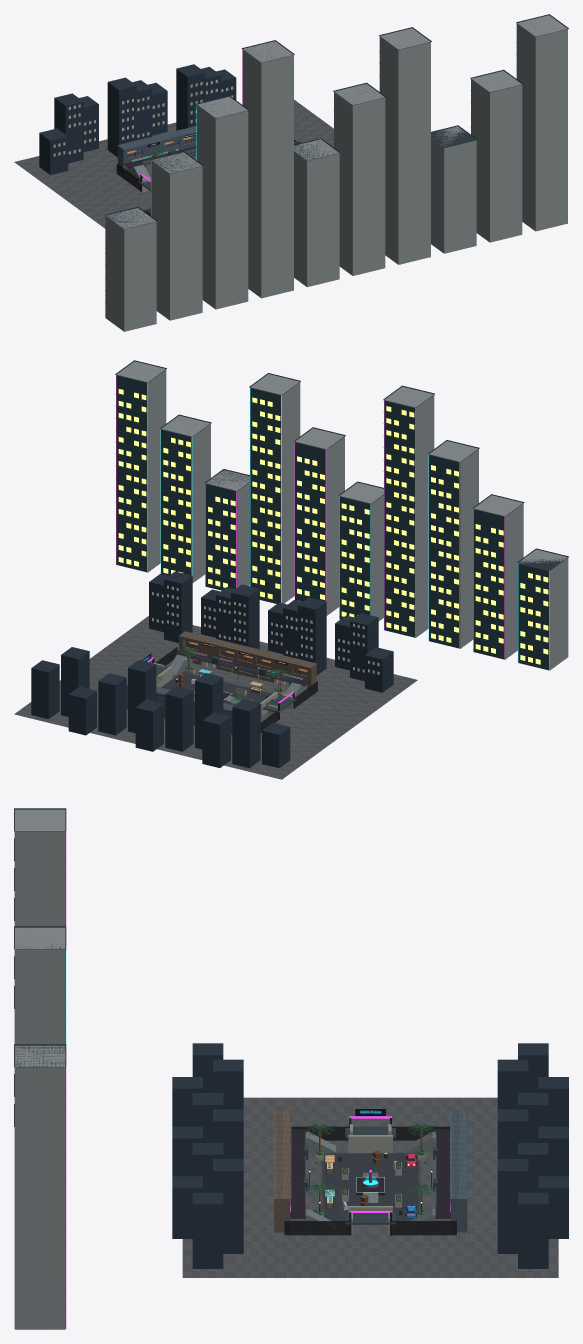
File: world.glb
3 renders of one model, top to bottom at view 1: azimuth 30°, elevation 25°; view 2: azimuth 150°, elevation 25°; view 3: azimuth 270°, elevation 25°, orthographic. The views are drawn at different scales.
Parts seen in each view (by area): view 1: arena static cell (1, -3, 0), arena static cell (0, -3, 0), arena static cell (-1, -3, 0), arena static cell (-2, -3, 0), reference-mesh-70, reference-mesh-0, Building | masonry mass, reference-mesh-8, reference-mesh-72, arena static cell (-2, -3, 1), Building | roof cap.007, Building | roof cap (+1 smaller); view 2: reference-mesh-70, reference-mesh-0, arena static cell (1, -2, 0), arena static cell (0, -2, 0), arena static cell (-1, -2, 0), arena static cell (-2, -2, 0).002, arena static cell (1, -3, 0), arena static cell (0, -3, 0), arena static cell (-2, -3, 0), arena static cell (-1, -3, 0), reference-mesh-28, Building | glazed face (+11 smaller); view 3: reference-mesh-0, reference-mesh-70, arena static cell (1, -3, 0), arena static cell (-1, -3, 0), arena static cell (0, -3, 0), reference-mesh-28, reference-mesh-8, arena static cell (0, 0, 0), reference-mesh-62, reference-mesh-44, reference-mesh-64, reference-mesh-24 (+3 smaller).
Part boxes in pixels (x1,y1,x2,y2): arena static cell (1, -3, 0): [431, 15, 567, 253]; arena static cell (0, -3, 0): [334, 28, 430, 275]; arena static cell (-1, -3, 0): [242, 41, 339, 298]; arena static cell (-2, -3, 0): [151, 96, 248, 320]; reference-mesh-70: [39, 64, 301, 215]; reference-mesh-0: [14, 99, 333, 228]; Building | masonry mass: [105, 208, 156, 331]; reference-mesh-8: [117, 126, 196, 172]; reference-mesh-72: [53, 79, 233, 156]; arena static cell (-2, -3, 1): [150, 95, 248, 173]; Building | roof cap.007: [431, 125, 477, 148]; Building | roof cap: [104, 207, 157, 229]; reference-mesh-70: [31, 571, 393, 768]; reference-mesh-0: [14, 616, 417, 779]; arena static cell (1, -2, 0): [116, 375, 236, 590]; arena static cell (0, -2, 0): [250, 388, 325, 603]; arena static cell (-1, -2, 0): [339, 400, 414, 637]; arena static cell (-2, -2, 0).002: [429, 455, 504, 658]; arena static cell (1, -3, 0): [116, 361, 249, 590]; arena static cell (0, -3, 0): [250, 374, 344, 615]; arena static cell (-2, -3, 0): [429, 441, 523, 659]; arena static cell (-1, -3, 0): [340, 386, 434, 637]; reference-mesh-28: [178, 631, 316, 688]; Building | glazed face: [518, 563, 548, 669]; reference-mesh-0: [182, 1097, 558, 1277]; reference-mesh-70: [172, 1043, 568, 1268]; arena static cell (1, -3, 0): [14, 1045, 65, 1329]; arena static cell (-1, -3, 0): [14, 809, 65, 926]; arena static cell (0, -3, 0): [14, 927, 65, 1044]; reference-mesh-28: [274, 1110, 291, 1232]; reference-mesh-8: [450, 1110, 467, 1232]; arena static cell (0, 0, 0): [290, 1131, 450, 1228]; reference-mesh-62: [342, 1124, 401, 1234]; reference-mesh-44: [290, 1129, 305, 1218]; reference-mesh-64: [303, 1126, 437, 1224]; reference-mesh-24: [435, 1129, 450, 1218].
Size of the model in its own units: 136 by 69.52 by 109.
106 materials, 16 textured.
